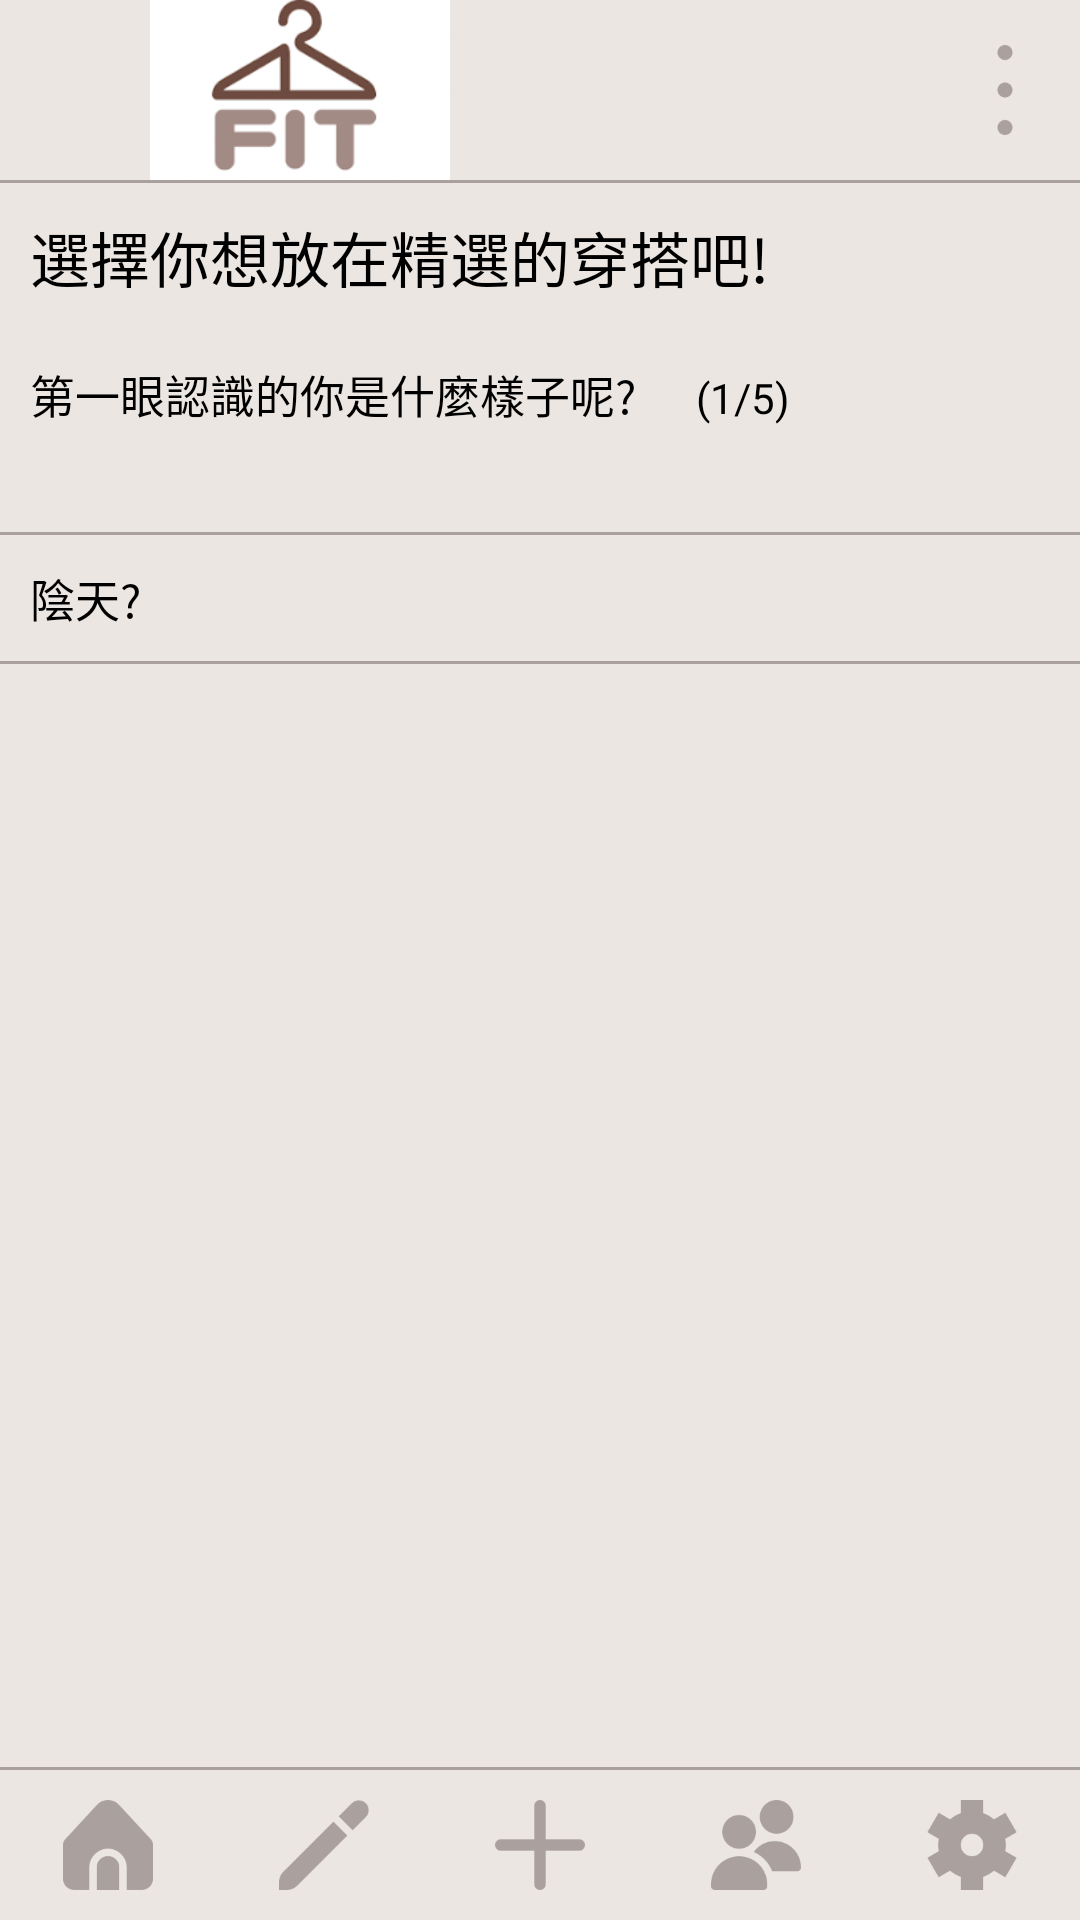

Icons on this 1080x1920 Android screen, each with the point to tap as (x=x, y=y):
home: (x=108, y=1845)
menu: (x=1005, y=90)
pencil: (x=324, y=1845)
plus: (x=540, y=1845)
settings: (x=972, y=1845)
users: (x=756, y=1845)
